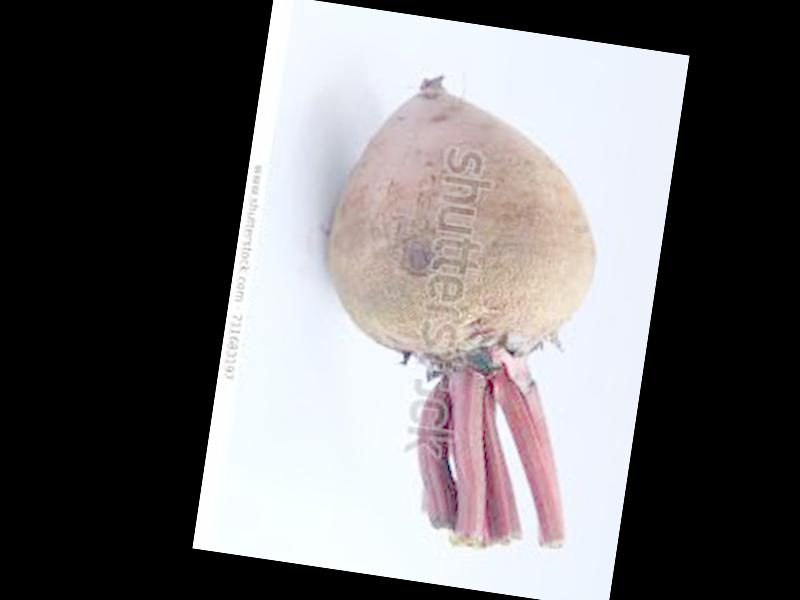Beet: (289, 70, 622, 551)
